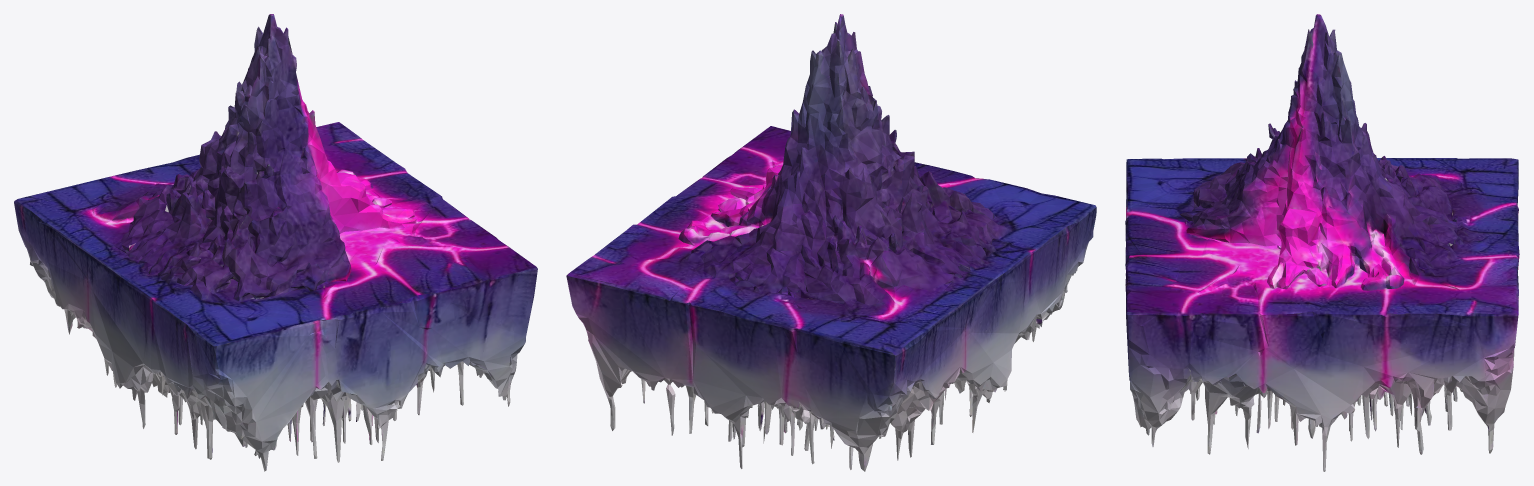
The model's file is solitude-plateau-generated-2026-04-19T18-12-34-007Z.medium.glb.
The picture shows the model from 3 angles, left to right: view 1: azimuth 30°, elevation 25°; view 2: azimuth 150°, elevation 25°; view 3: azimuth 270°, elevation 25°; orthographic projection. The views are drawn at different scales.
Visible parts, largest first — view 1: temp_mesh.ply; view 2: temp_mesh.ply; view 3: temp_mesh.ply.
Boxes of the visible parts, x1=… form: temp_mesh.ply: x1=14, y1=14, x2=537, y2=471; temp_mesh.ply: x1=566, y1=14, x2=1096, y2=471; temp_mesh.ply: x1=1125, y1=14, x2=1519, y2=471.
Size of the model in its own units: 1.78 by 1.97 by 1.87.
Materials: 1 (1 with a texture image).
